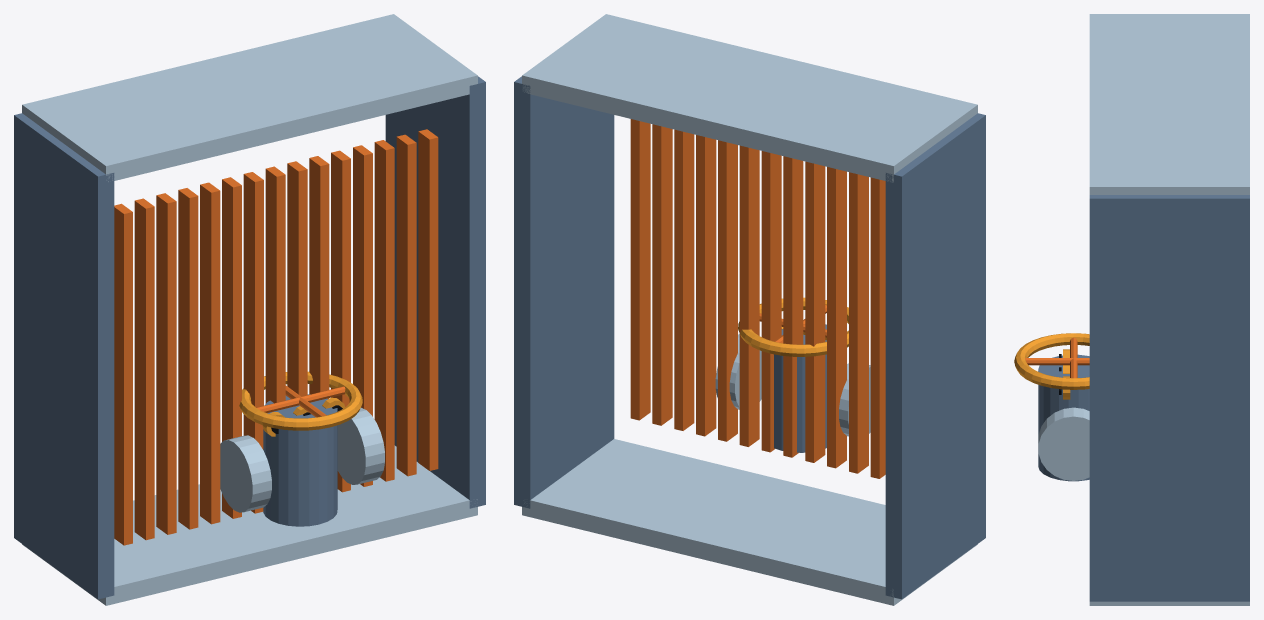
Rendered from 70_L89_ShelterThermalAirReclaimer.fbx.
3 views of the same model, side by side, from view 1: azimuth 30°, elevation 25°; view 2: azimuth 150°, elevation 25°; view 3: azimuth 270°, elevation 25° (orthographic). The views are drawn at different scales.
Visible parts, largest first — view 1: L87_ShelterThermalAirReclaimer_Part_0002, L87_ShelterThermalAirReclaimer_Part_0000, L87_ShelterThermalAirReclaimer_Part_0001, L87_ShelterThermalAirReclaimer_Part_0003, L87_ShelterThermalAirReclaimer_Part_0004; view 2: L87_ShelterThermalAirReclaimer_Part_0000, L87_ShelterThermalAirReclaimer_Part_0001, L87_ShelterThermalAirReclaimer_Part_0002, L87_ShelterThermalAirReclaimer_Part_0003; view 3: L87_ShelterThermalAirReclaimer_Part_0000, L87_ShelterThermalAirReclaimer_Part_0001, L87_ShelterThermalAirReclaimer_Part_0003, L87_ShelterThermalAirReclaimer_Part_0004.
Boxes of the visible parts, bbox=[...] form: L87_ShelterThermalAirReclaimer_Part_0002: bbox=[114, 129, 438, 545]; L87_ShelterThermalAirReclaimer_Part_0000: bbox=[14, 76, 485, 599]; L87_ShelterThermalAirReclaimer_Part_0001: bbox=[22, 14, 477, 605]; L87_ShelterThermalAirReclaimer_Part_0003: bbox=[239, 371, 362, 430]; L87_ShelterThermalAirReclaimer_Part_0004: bbox=[256, 385, 345, 417]; L87_ShelterThermalAirReclaimer_Part_0000: bbox=[514, 76, 985, 599]; L87_ShelterThermalAirReclaimer_Part_0001: bbox=[522, 14, 977, 605]; L87_ShelterThermalAirReclaimer_Part_0002: bbox=[630, 119, 885, 478]; L87_ShelterThermalAirReclaimer_Part_0003: bbox=[738, 297, 848, 356]; L87_ShelterThermalAirReclaimer_Part_0000: bbox=[1038, 195, 1249, 601]; L87_ShelterThermalAirReclaimer_Part_0001: bbox=[1038, 14, 1249, 605]; L87_ShelterThermalAirReclaimer_Part_0003: bbox=[1014, 333, 1089, 389]; L87_ShelterThermalAirReclaimer_Part_0004: bbox=[1025, 337, 1089, 378].
Size of the model in its own units: 240 by 260 by 132.
